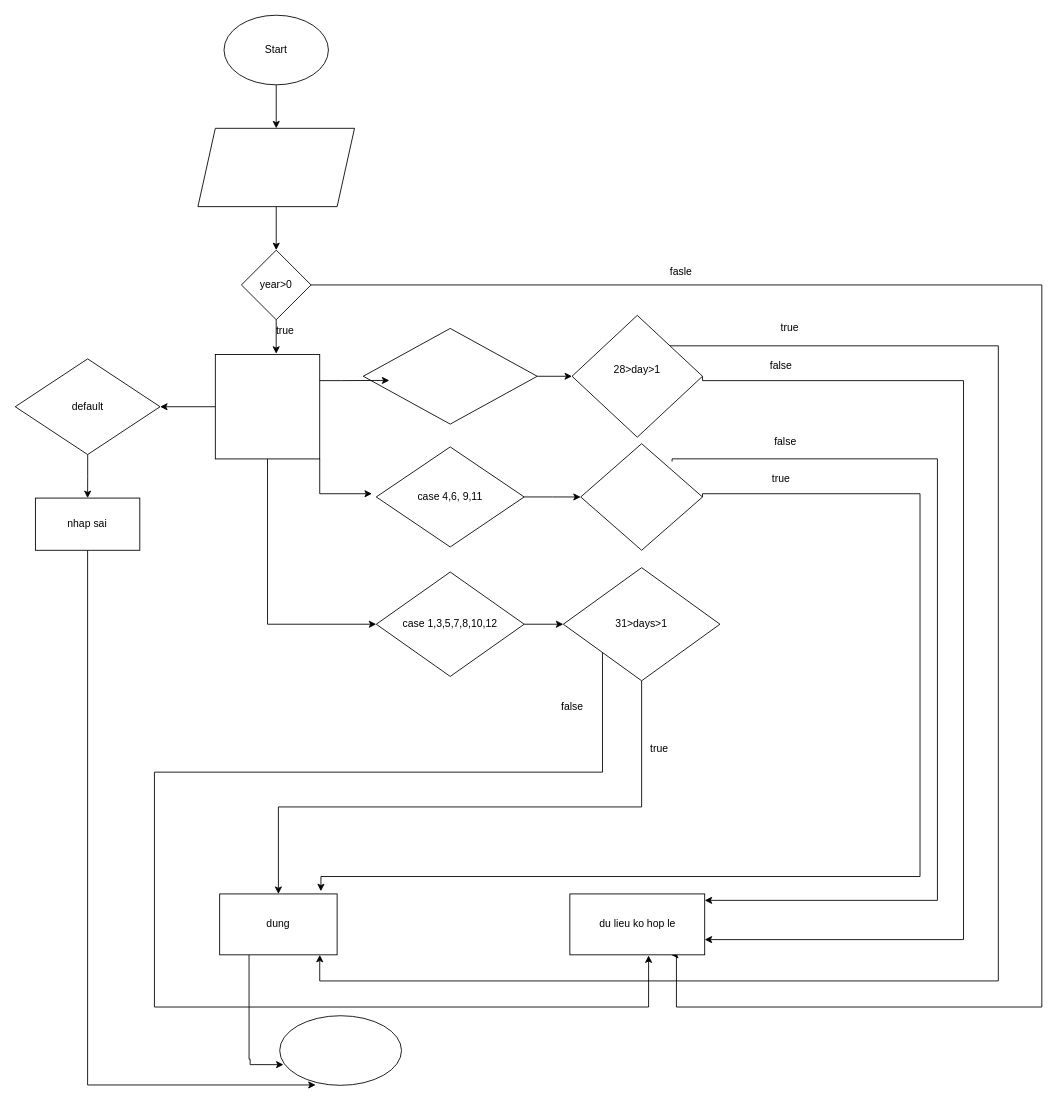
Image size: 1064x1108. Some labels were removed from this diagram. Here are the shapes that lost their labels. From the top down, the centre of each, then its label:
pixel 276 167: year,month,day
pixel 449 376: case 2
pixel 267 406: switch(month)
pixel 641 496: 30>day>1
pixel 340 1050: end
